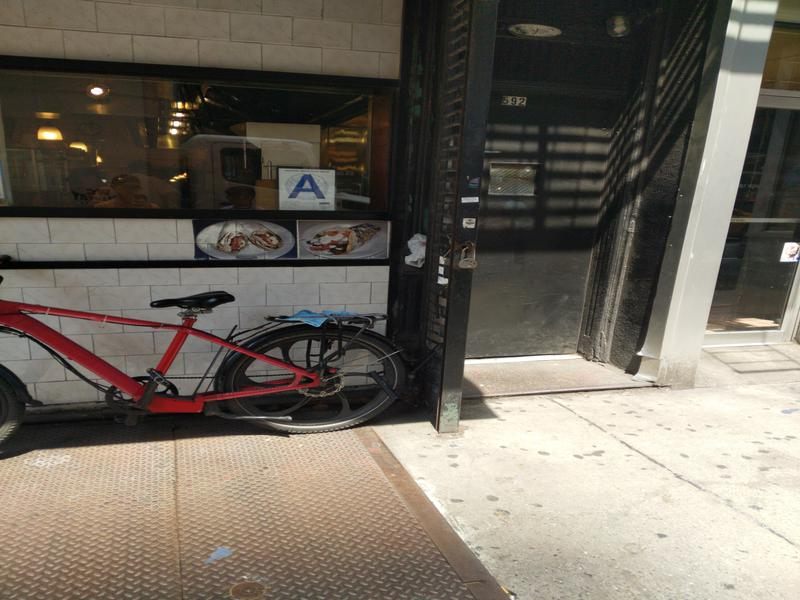door: (470, 23, 617, 373)
